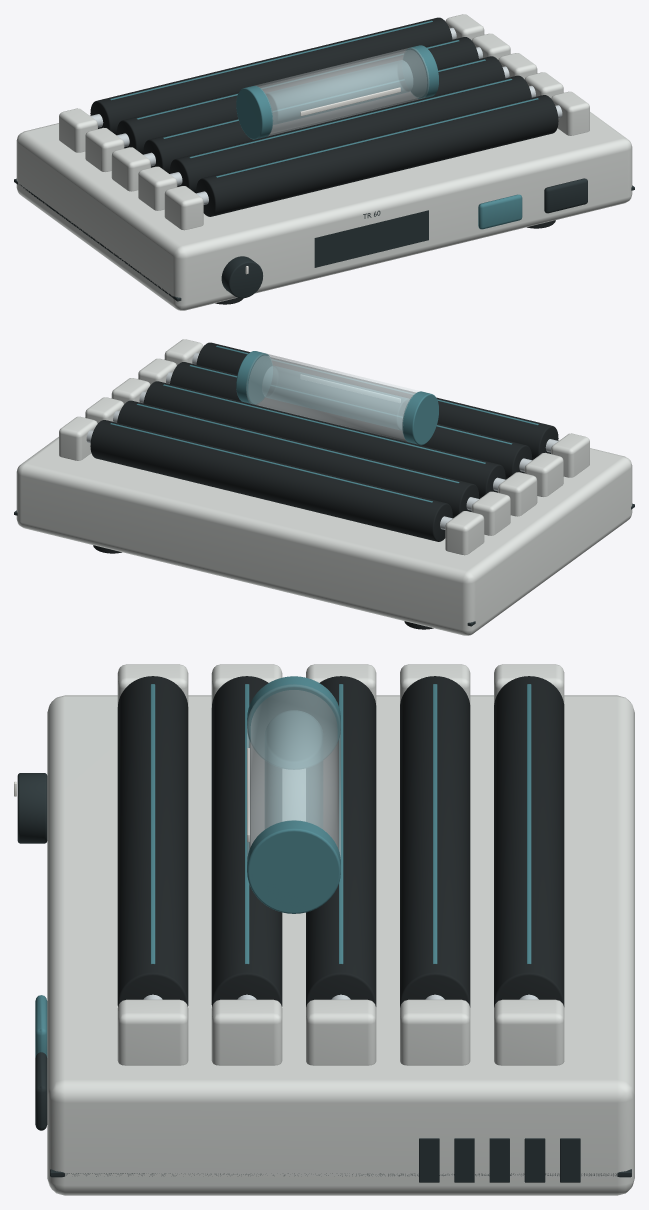
File: preview.glb
3 renders of one model, top to bottom at view 1: azimuth 30°, elevation 25°; view 2: azimuth 150°, elevation 25°; view 3: azimuth 270°, elevation 25°, orthographic. The views are drawn at different scales.
Parts seen in each view (by area): view 1: Bearing pedestal, Elastomer roller, Elastomer roller.001, Elastomer roller.004, Sample vessel, Elastomer roller.003, Elastomer roller.002, Inert sealed sample, Live LCD surface, Flush screw cap, Encoder, Control key (+7 smaller); view 2: Bearing pedestal, Elastomer roller.004, Elastomer roller.003, Elastomer roller.002, Sample vessel, Elastomer roller.001, Elastomer roller, Inert sealed sample, Flush screw cap, Roller index.003, Roller index.004, Roller index.002 (+2 smaller); view 3: Bearing pedestal, Elastomer roller, Elastomer roller.004, Elastomer roller.003, Elastomer roller.001, Elastomer roller.002, Flush screw cap, Sample vessel, Inert sealed sample, Lower seam, Encoder, Roller index (+6 smaller).
Boxes of the visible parts, x1,y1,x2,y2 form: Bearing pedestal: (16,14,632,310); Elastomer roller: (196,95,558,216); Elastomer roller.001: (169,75,531,192); Elastomer roller.004: (90,17,452,135); Sample vessel: (255,47,428,136); Elastomer roller.003: (117,37,478,154); Elastomer roller.002: (143,56,505,173); Inert sealed sample: (266,60,412,124); Live LCD surface: (314,210,428,267); Flush screw cap: (236,45,438,139); Encoder: (221,256,262,298); Control key: (478,194,522,229); Bearing pedestal: (16,339,632,635); Elastomer roller.004: (90,420,452,541); Elastomer roller.003: (117,400,479,517); Elastomer roller.002: (143,381,505,498); Sample vessel: (246,353,420,441); Elastomer roller.001: (170,362,531,479); Elastomer roller: (196,342,558,460); Inert sealed sample: (262,366,409,430); Flush screw cap: (236,351,438,445); Roller index.003: (136,403,459,483); Roller index.004: (110,423,432,502); Roller index.002: (163,384,485,463); Bearing pedestal: (47,664,634,1195); Elastomer roller: (117,676,188,1006); Elastomer roller.004: (494,676,564,1007); Elastomer roller.003: (400,676,470,1007); Elastomer roller.001: (211,676,282,1006); Elastomer roller.002: (306,676,376,1006); Flush screw cap: (247,676,340,913); Sample vessel: (247,684,340,860); Inert sealed sample: (265,710,322,828); Lower seam: (50,1138,631,1182); Encoder: (17,773,47,843); Roller index: (150,684,155,964).
Bounding box in the file's own units: 0.3204 × 0.106 × 0.2113.
